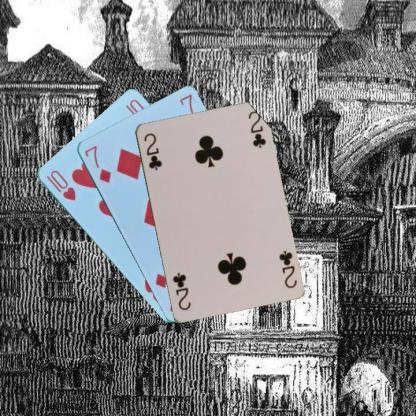10h: (47, 167, 77, 202)
2c: (276, 247, 298, 290), (141, 130, 163, 171)
7d: (82, 143, 112, 184)
